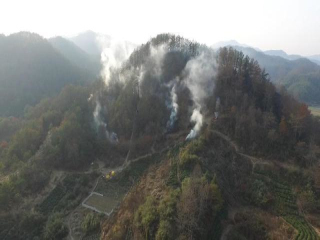smoke: (91, 28, 220, 148)
